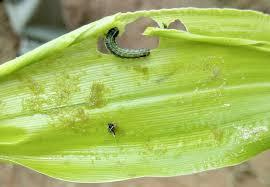fallarmy_worm: (101, 26, 152, 60)
